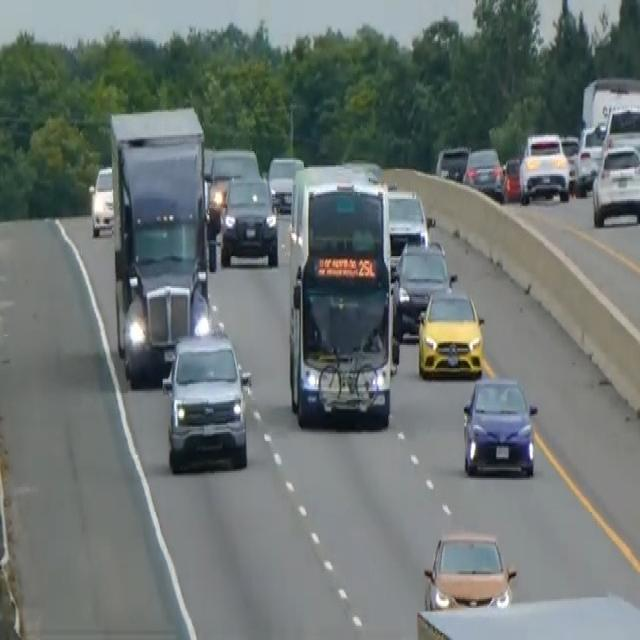bus: (286, 160, 395, 430)
car: (461, 374, 538, 478), (422, 528, 516, 612), (416, 284, 485, 378), (393, 238, 455, 338), (219, 174, 278, 267), (207, 146, 260, 228), (591, 138, 639, 228), (518, 130, 570, 204), (385, 185, 430, 267), (463, 144, 504, 203), (266, 153, 304, 213), (576, 121, 606, 190), (601, 101, 639, 155), (88, 164, 114, 236), (435, 142, 469, 183), (561, 132, 580, 188), (501, 153, 521, 201)
jeep: (160, 325, 253, 473)
lorry: (107, 103, 212, 382)
